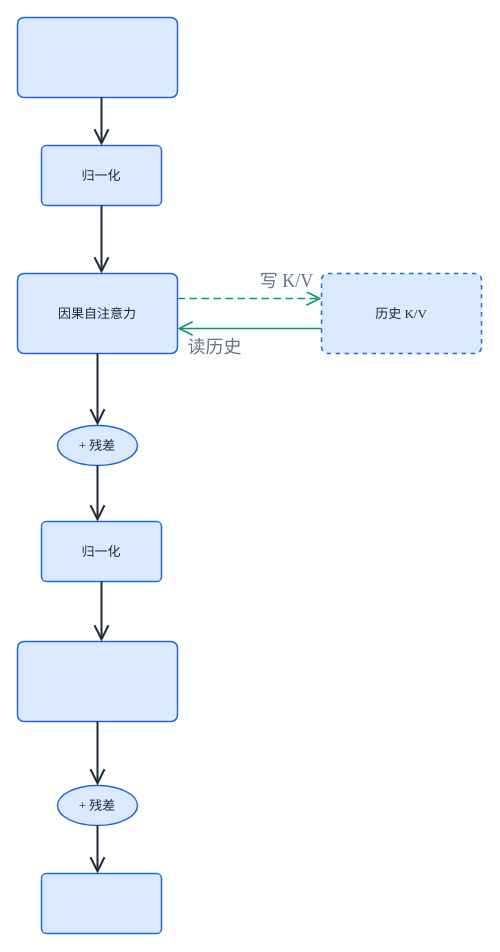
Some shapes in this 500 by 952 pixel diagram are drawn without their labels. The shapes that lost their labels are listed below. From the top down, each one's centre as x and y in pixels, then its label:
At (x=97, y=57): "这一层的输入".
At (x=97, y=681): "前馈网络".
At (x=101, y=903): "层输出".
